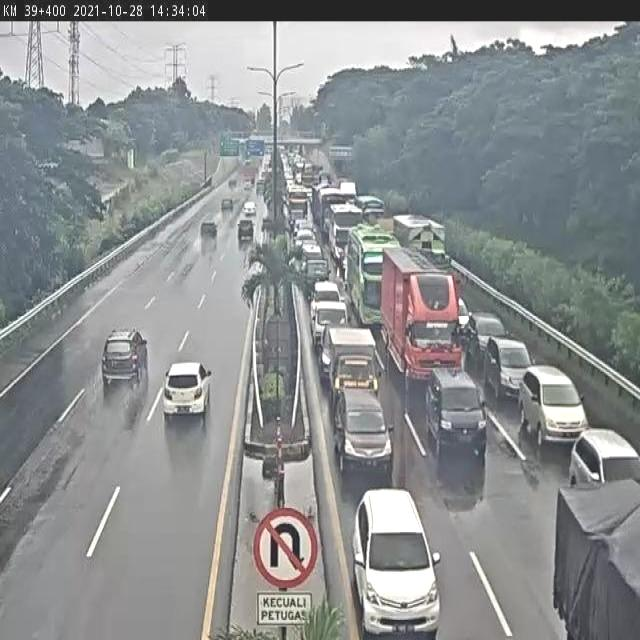Car: (350, 488, 441, 640), (517, 367, 589, 448), (334, 390, 394, 479), (99, 326, 149, 392), (484, 333, 534, 399), (160, 362, 212, 423), (236, 220, 256, 242), (200, 220, 218, 240)
Truck: (379, 245, 467, 382)
Van: (425, 367, 488, 460)
